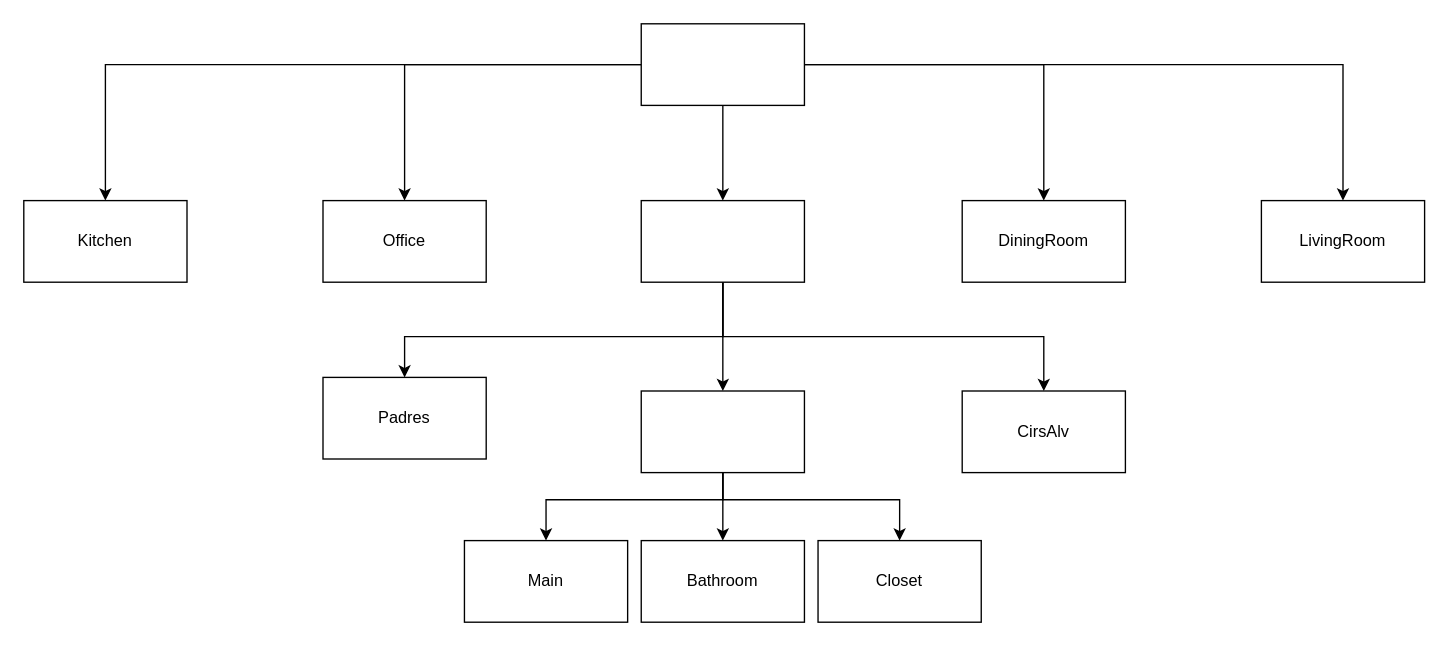
This 1448x646 diagram has some shape labels left out. The shapes that lost their labels are listed below. From the top down, each one's centre as x and y in pixels, then its label:
At point 722,63: "SmartHome".
At point 722,240: "Rooms".
At point 722,431: "Boys".
